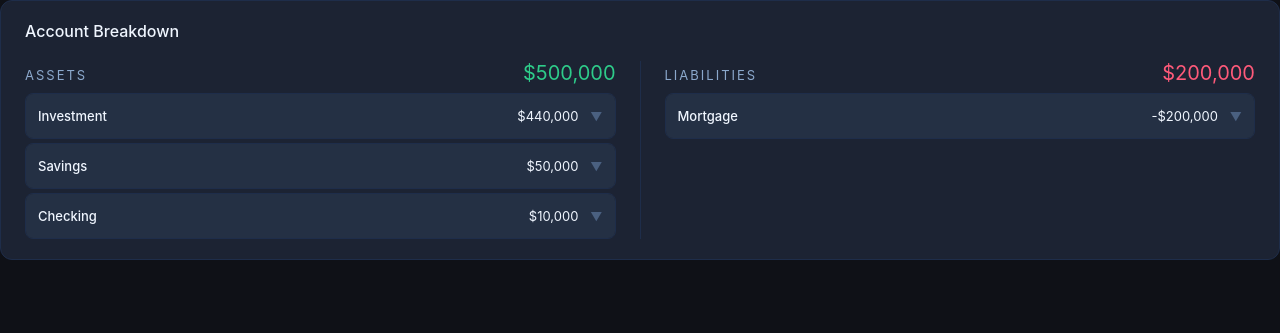
Scenario: AccountsBreakdown › expands an account group to show individual accounts on click
Click the text "checking" at [67, 216], box x1=38 y1=208 x2=97 y2=224
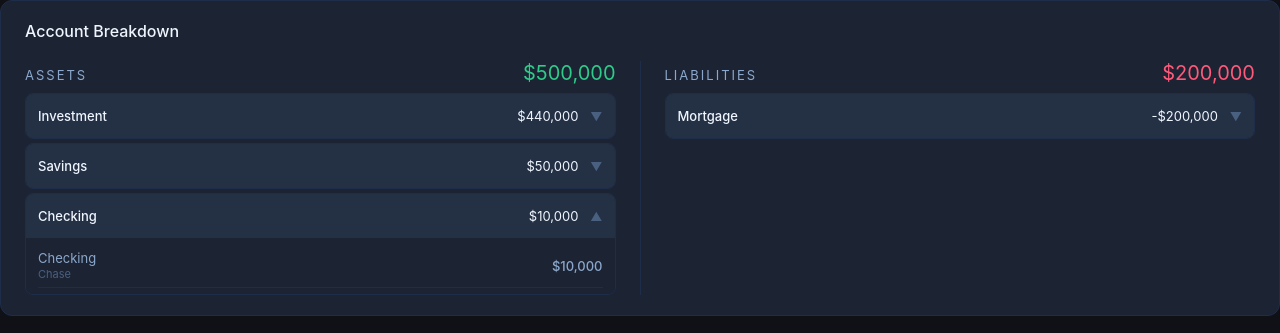
Now the text "Checking" is shown, box x1=38 y1=250 x2=96 y2=266
